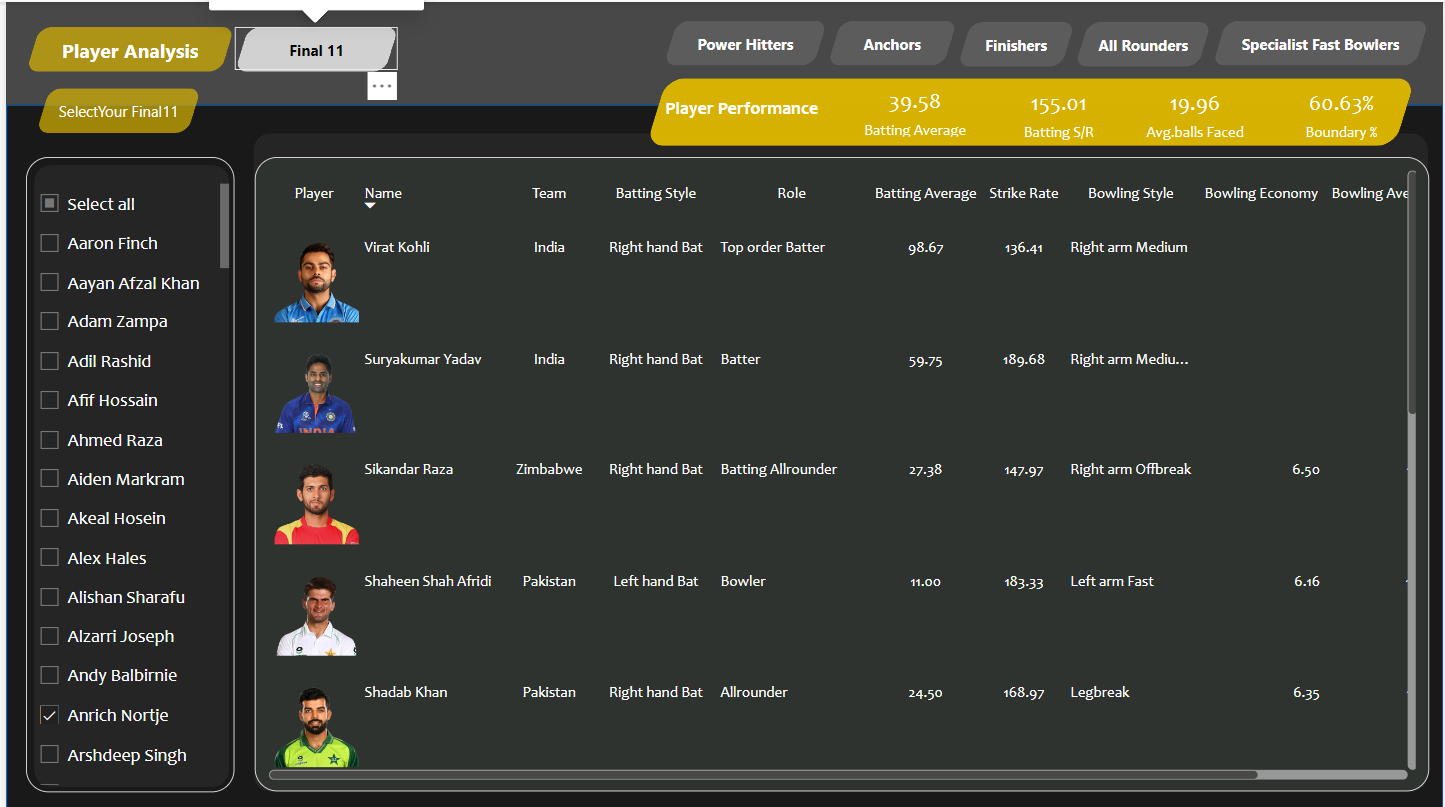

Layout of this report page (visuals, bound fields, positions):
{"tool":"powerbi","page":{"name":"Final 11","canvas":[1280,720],"ordinal":7},"visuals":[{"type":"shape","box":[0,91.7,1279.6,628.3],"z":0},{"type":"shape","box":[220.7,117,1045.6,586.1],"z":1000},{"type":"shape","box":[18.1,137.5,185.7,565.6],"z":2000},{"type":"actionButton","box":[584.9,16.9,145.9,39.8],"z":3000},{"type":"actionButton","box":[730.9,16.9,115.8,39.8],"z":4000},{"type":"actionButton","box":[846.6,18.1,104.9,39.8],"z":5000},{"type":"actionButton","box":[951.6,18.1,121.8,39.8],"z":6000},{"type":"actionButton","box":[1073.4,16.9,193,39.8],"z":7000},{"type":"actionButton","box":[203.8,21.7,145.9,39.8],"z":8000},{"type":"actionButton","box":[18.1,21.7,185.7,39.8],"z":9000},{"type":"slicer","fields":{"Values":["Players_Summary.name"]},"box":[18.1,156.8,186,545],"z":10000},{"type":"tableEx","fields":{"Values":["Players_Summary.image","Players_Summary.name","Players_Summary.team","Players_Summary.battingStyle","Players_Summary.playingRole","Key Measure.Batting Average","Key Measure.Strike rate","Players_Summary.bowlingStyle","Key Measure.Bowling Economy","Key Measure.Bowling Average","Key Measure.Bowling Strike Rate"]},"box":[221.9,137.5,1045.6,564.4],"z":11000},{"type":"actionButton","box":[26.5,77.2,147.1,39.8],"z":12000},{"type":"shape","box":[569.2,67.5,685,60.3],"z":13000},{"type":"card","fields":{"Values":["Key Measure.Batting Average"]},"box":[744.1,67.5,130.3,56.7],"z":14000},{"type":"card","fields":{"Values":["Key Measure.Strike rate"]},"box":[872,67.5,130.3,60.3],"z":15000},{"type":"card","fields":{"Values":["Key Measure.Avg.balls Faced"]},"box":[993.8,67.5,130.3,60.3],"z":16000},{"type":"card","fields":{"Values":["Key Measure.Boundary %"]},"box":[1124,67.5,130.3,60.3],"z":17000},{"type":"textbox","box":[582.5,79.6,162.8,39.8],"z":18000}]}

Visuals, with their boxes in screenshot pixels (x1, y1, x2, y2), scaled from the page's 1280x720 canvas onto the 1445x807 screenshot:
shape: 0, 103, 1444, 806
shape: 249, 131, 1430, 788
shape: 20, 154, 230, 788
actionButton: 660, 19, 825, 64
actionButton: 825, 19, 956, 64
actionButton: 956, 20, 1074, 65
actionButton: 1074, 20, 1212, 65
actionButton: 1212, 19, 1430, 64
actionButton: 230, 24, 395, 69
actionButton: 20, 24, 230, 69
slicer - Players_Summary.name: 20, 176, 230, 787
tableEx - Players_Summary.image x Players_Summary.name: 251, 154, 1431, 787
actionButton: 30, 87, 196, 131
shape: 643, 76, 1416, 143
card - Key Measure.Batting Average: 840, 76, 987, 139
card - Key Measure.Strike rate: 984, 76, 1132, 143
card - Key Measure.Avg.balls Faced: 1122, 76, 1269, 143
card - Key Measure.Boundary %: 1269, 76, 1416, 143
textbox: 658, 89, 841, 134
